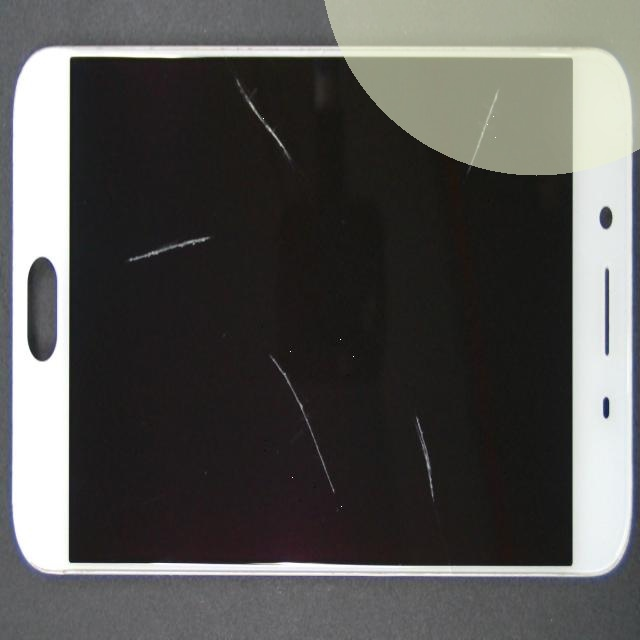scratch: (186, 166, 614, 640), (95, 89, 408, 598), (223, 51, 640, 254), (79, 0, 376, 156), (52, 148, 159, 444)
